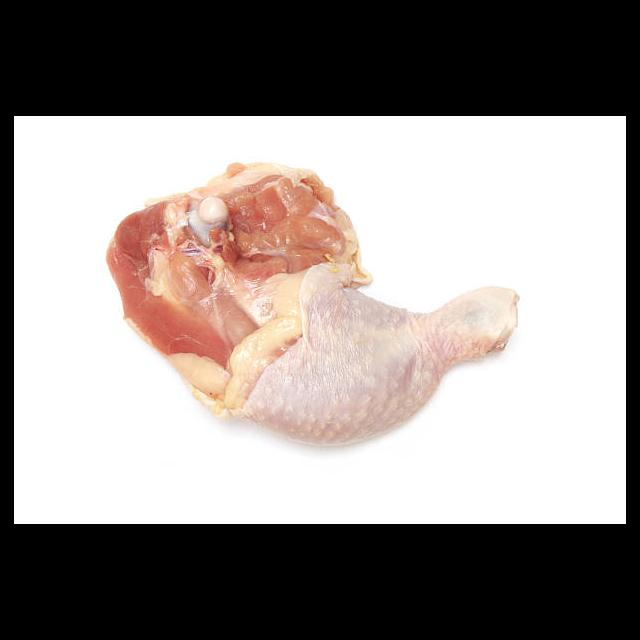chicken: (104, 160, 519, 444)
